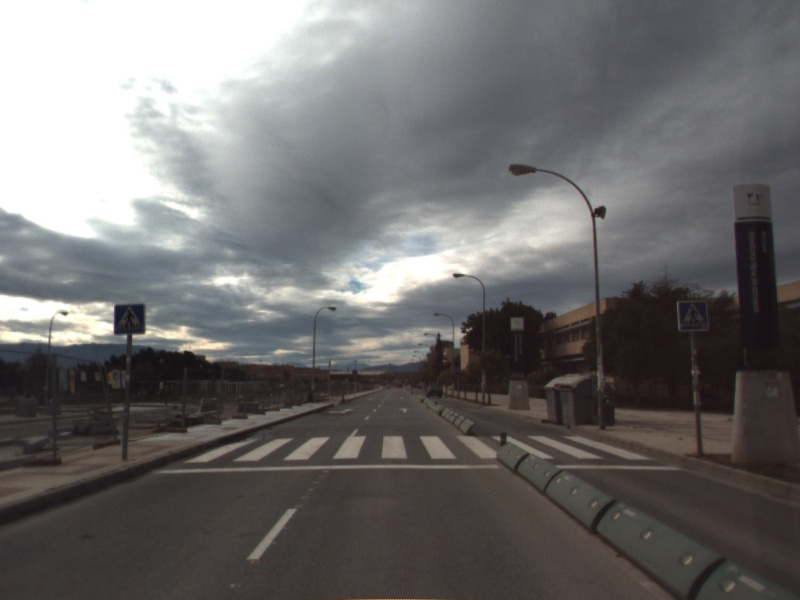STRAIGHT: (398, 406, 412, 414)
STRAIGHT_LEFT: (326, 406, 357, 416)
